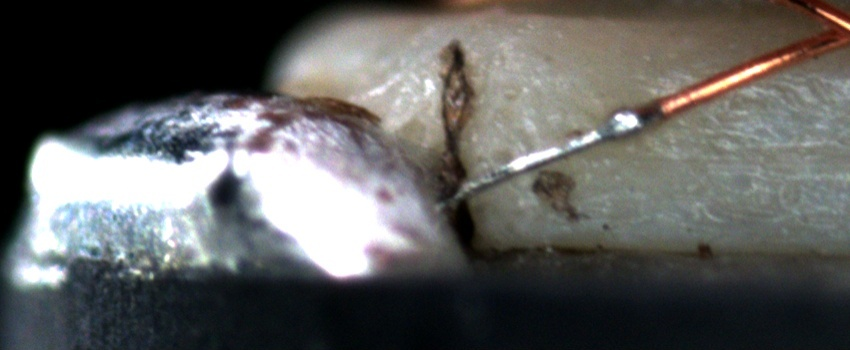CL: (794, 6, 850, 58)
DL: (630, 125, 850, 183), (611, 58, 850, 107)
TB: (603, 102, 648, 145)
TS: (448, 102, 654, 206)
TTCW: (452, 83, 713, 209)
